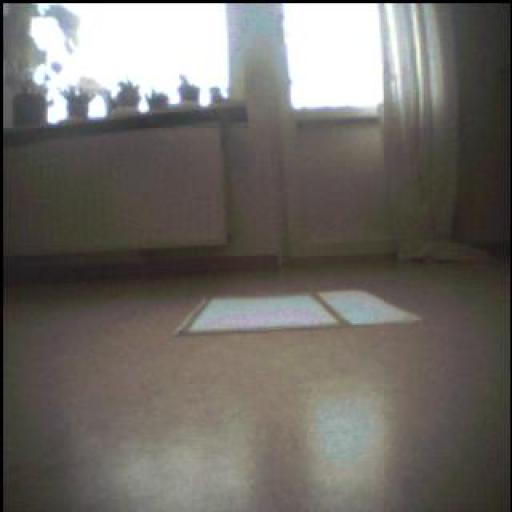Pad: (173, 286, 412, 341)
